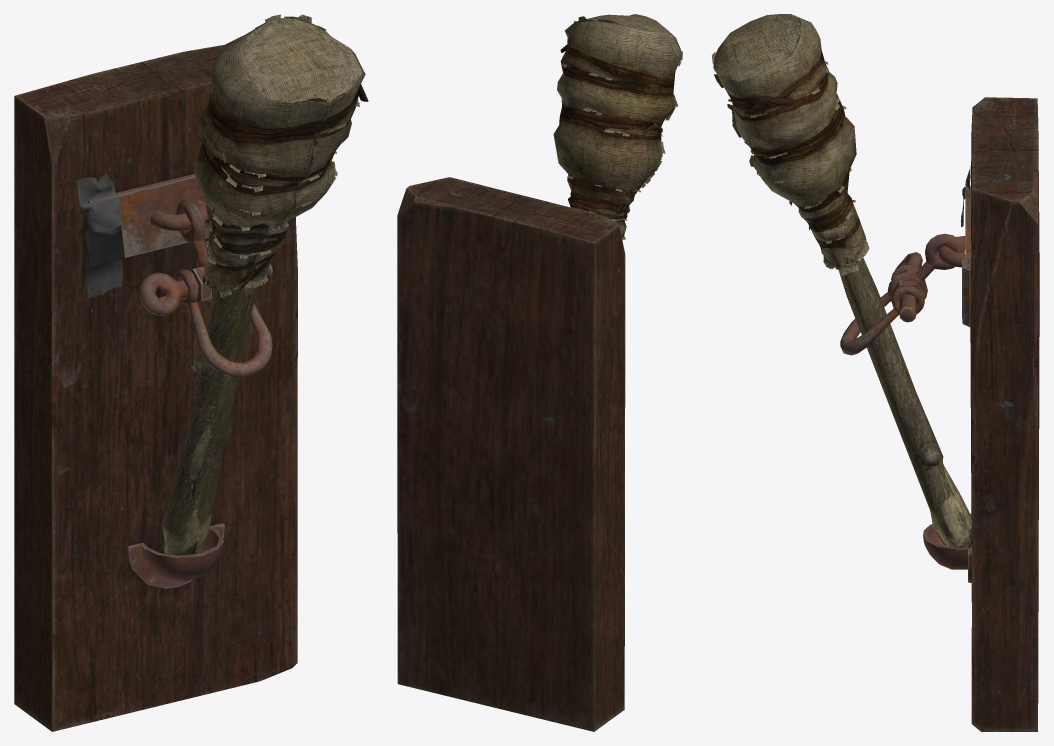
The model's file is torchholder_on.static.glb.
3 views of the same model, side by side, from view 1: azimuth 30°, elevation 25°; view 2: azimuth 150°, elevation 25°; view 3: azimuth 270°, elevation 25° (orthographic). The views are drawn at different scales.
Visible parts, largest first — view 1: TorchHolder, w_torch_LOD0; view 2: TorchHolder, w_torch_LOD0; view 3: TorchHolder, w_torch_LOD0.
Part boxes in pixels (bbox=[...]): TorchHolder: bbox=[14, 44, 297, 731]; w_torch_LOD0: bbox=[162, 14, 368, 555]; TorchHolder: bbox=[397, 177, 625, 731]; w_torch_LOD0: bbox=[553, 14, 682, 239]; TorchHolder: bbox=[840, 97, 1039, 731]; w_torch_LOD0: bbox=[711, 14, 971, 547].
Bounding box in the file's own units: 0.1606 × 0.4706 × 0.2123.
2 materials, 2 textured.
